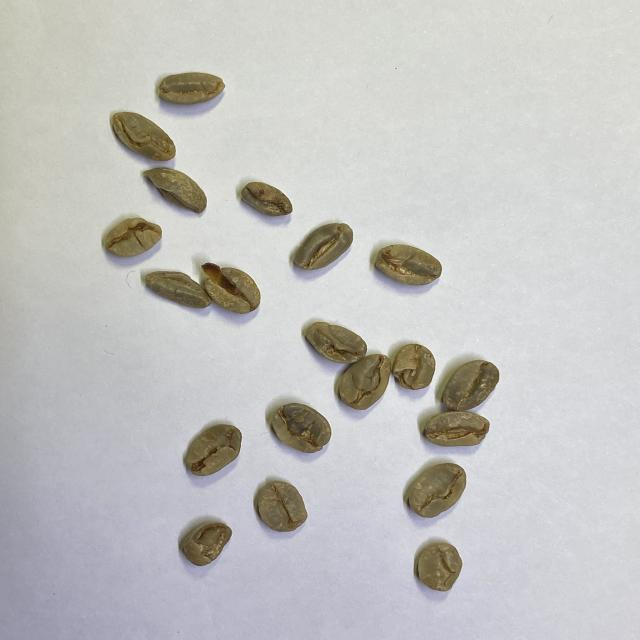bad: (404, 460, 470, 522), (111, 108, 179, 165), (200, 260, 264, 316), (268, 402, 334, 456), (292, 220, 356, 274), (336, 352, 393, 412), (143, 165, 208, 217), (184, 421, 243, 478), (373, 242, 445, 288), (143, 268, 214, 312), (301, 320, 368, 365), (256, 478, 309, 534), (178, 520, 234, 568), (422, 410, 492, 448), (102, 216, 164, 258), (414, 540, 464, 592), (156, 72, 227, 108), (391, 341, 436, 392), (240, 181, 294, 220)
good: (439, 358, 502, 415)
